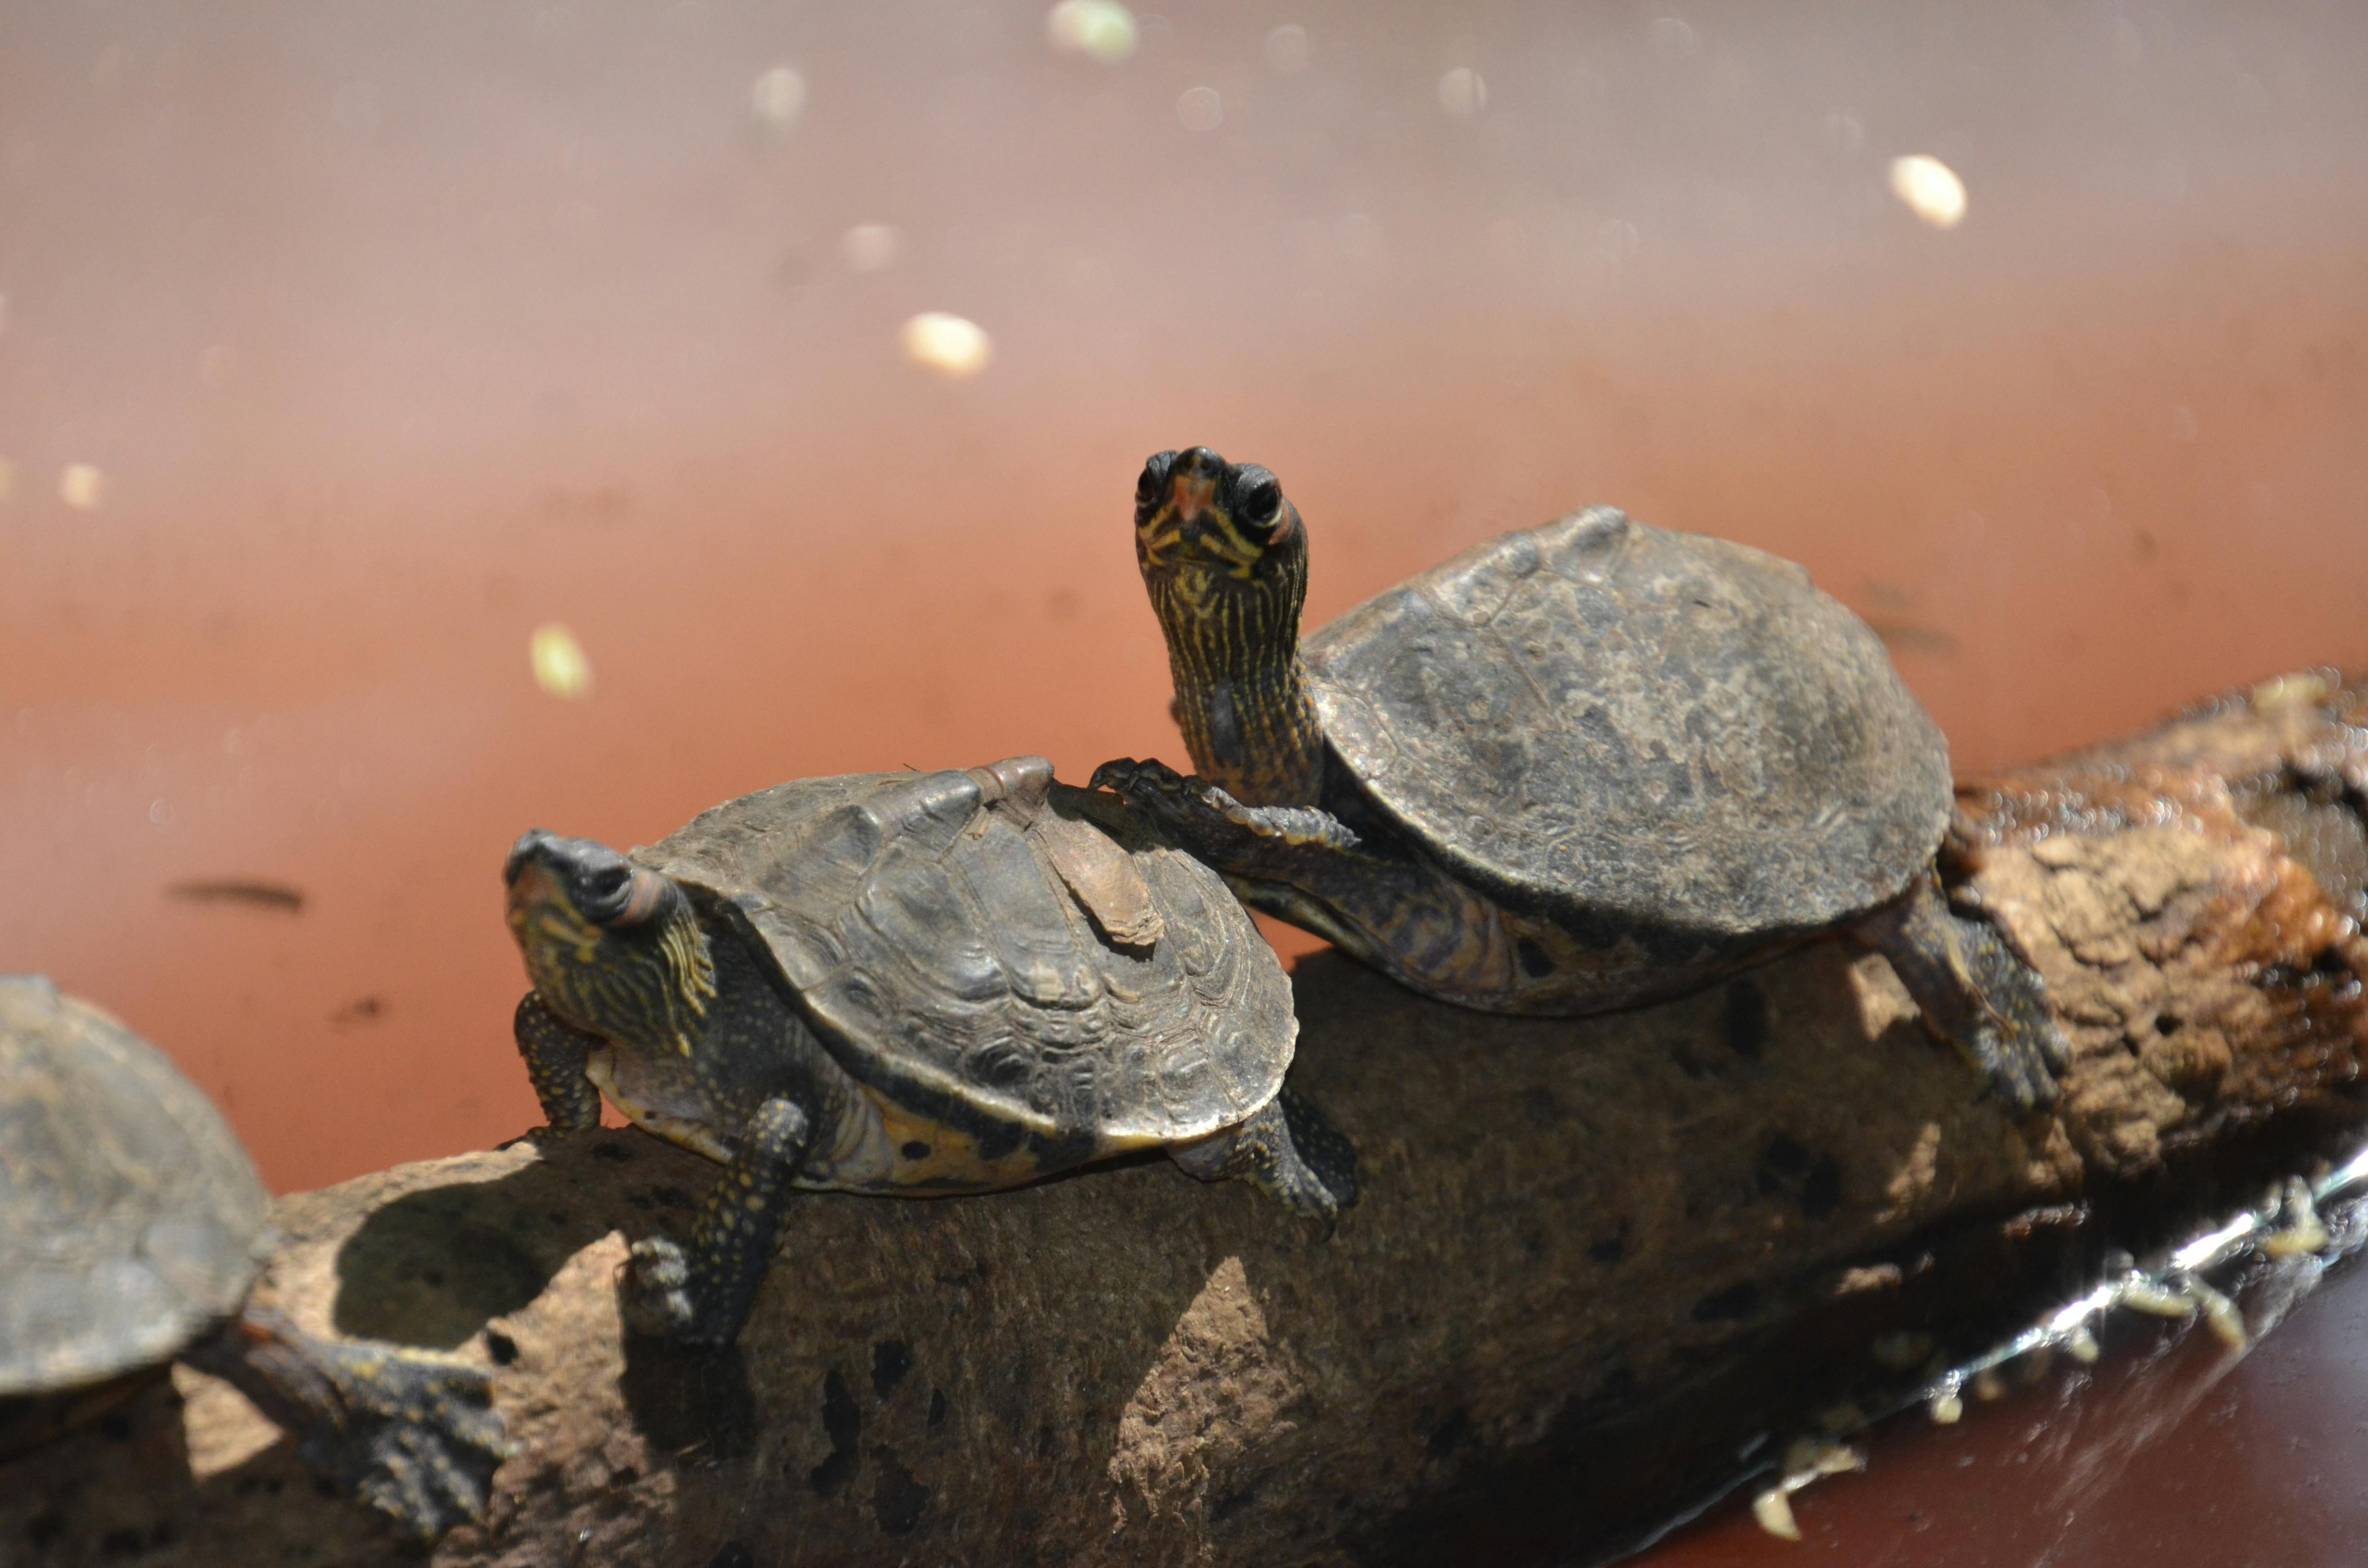turtle: (1082, 443, 2077, 1132), (497, 747, 1376, 1356), (0, 920, 525, 1568)
